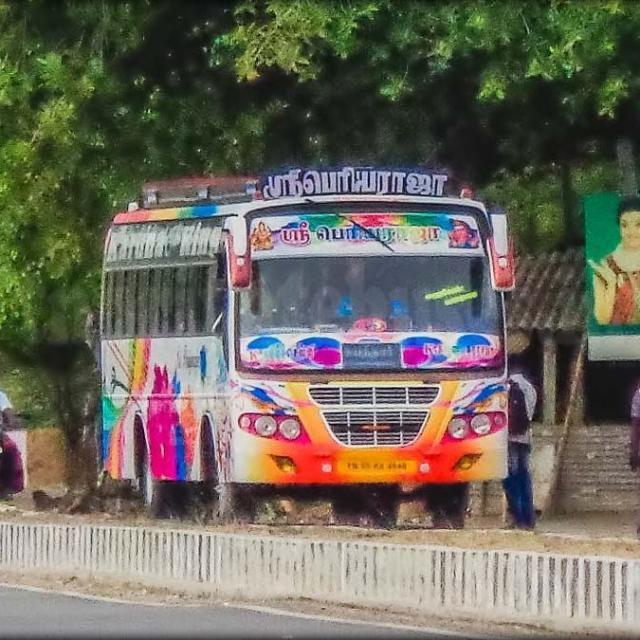Bus: (96, 164, 518, 521)
